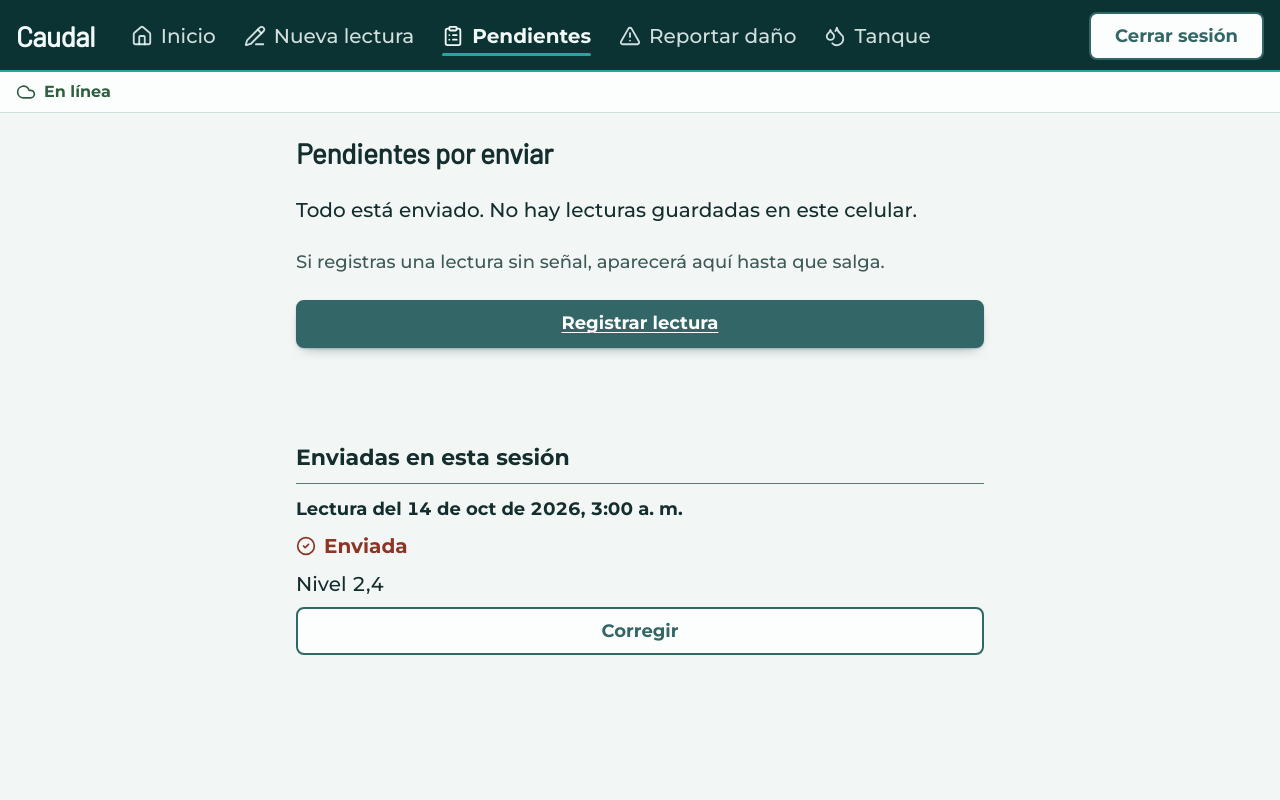
Test: SentReadingRow: correcting a reading the server has › stores the correction with its reason and says the original stays
This screenshot has width=1280, height=800.
Click the button "Corregir" at (640, 631), box [296,607,984,655]
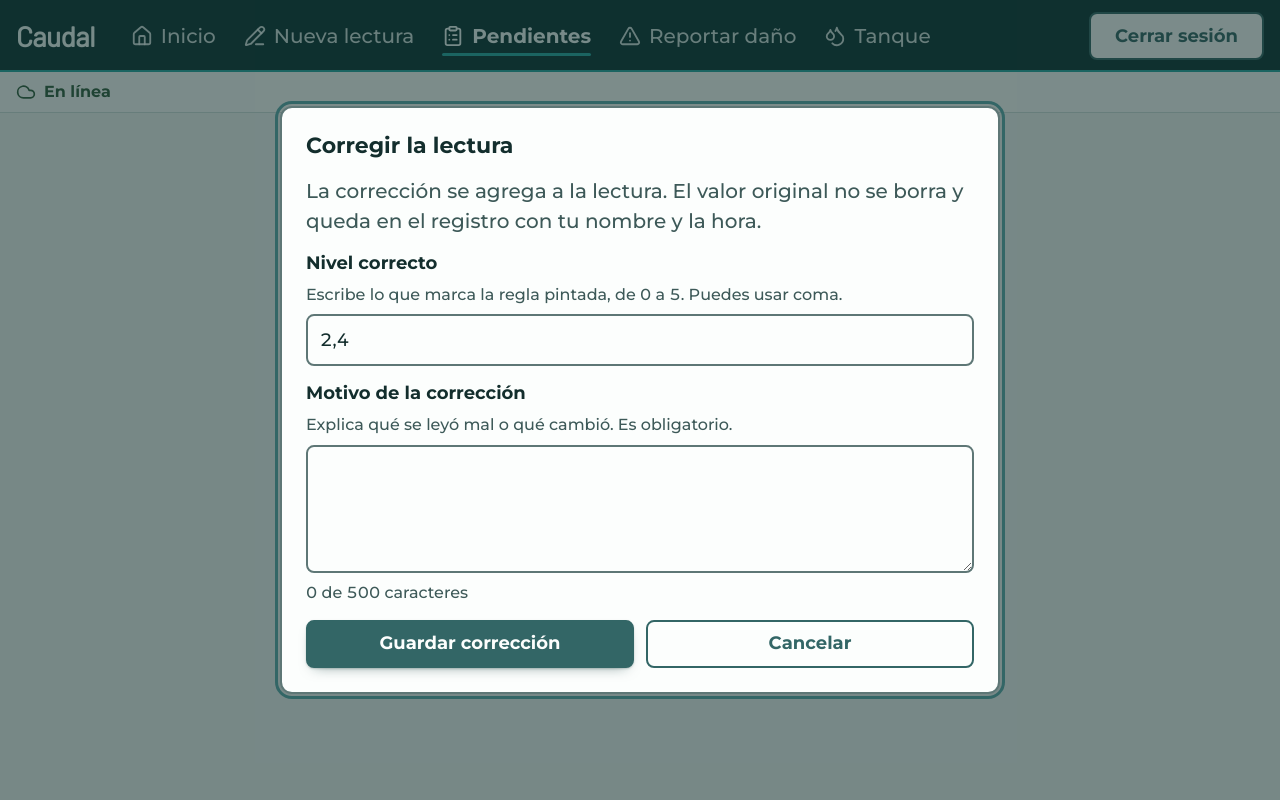
Expected: the text "La corrección se agrega a la lectura. El valor original no se borra y queda en el registro con tu nombre y la hora." is shown, [306,179,964,233]
Replace the text in the field labelled "Nivel correcto" with "2" at (640, 340), box [306,314,974,366]
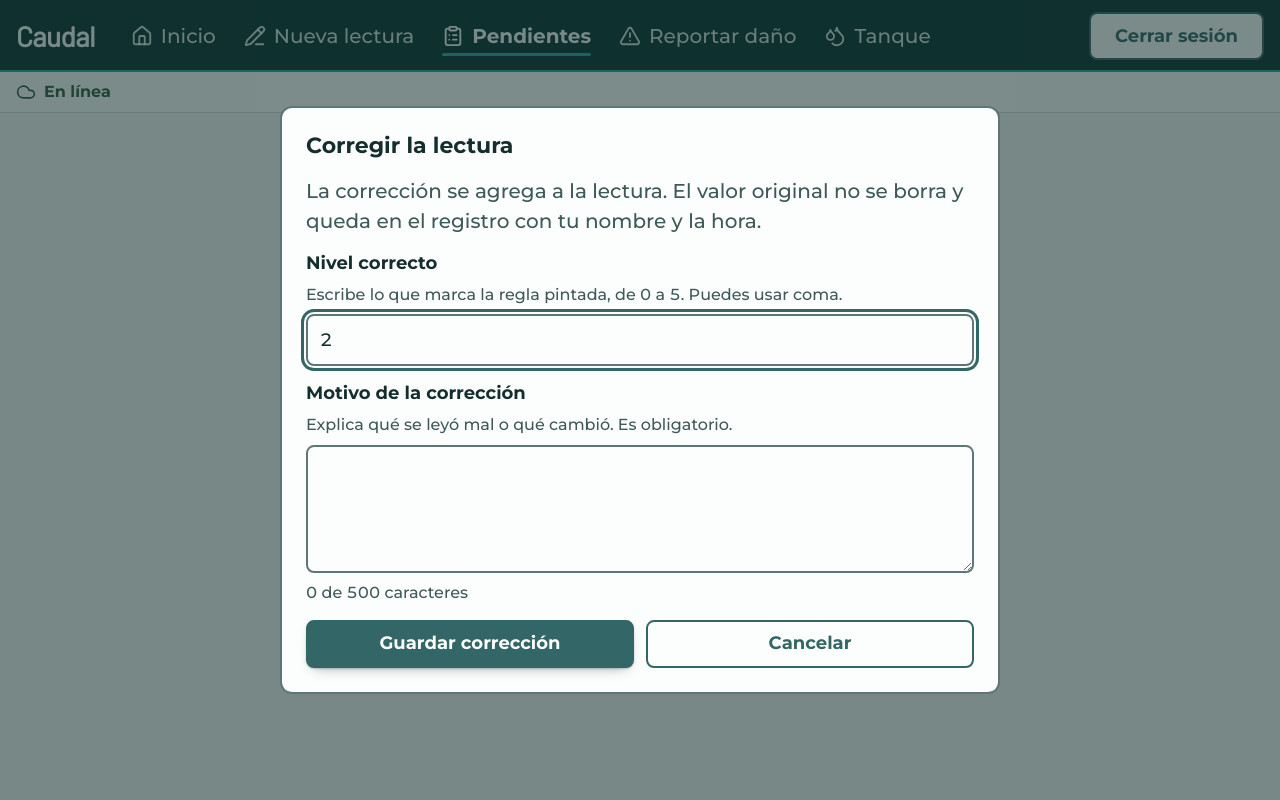
Type "Se leyó 2,0 y no 2,4 como quedó anotado." into the text box labelled "Motivo de la corrección" at (640, 509), box [306,445,974,573]
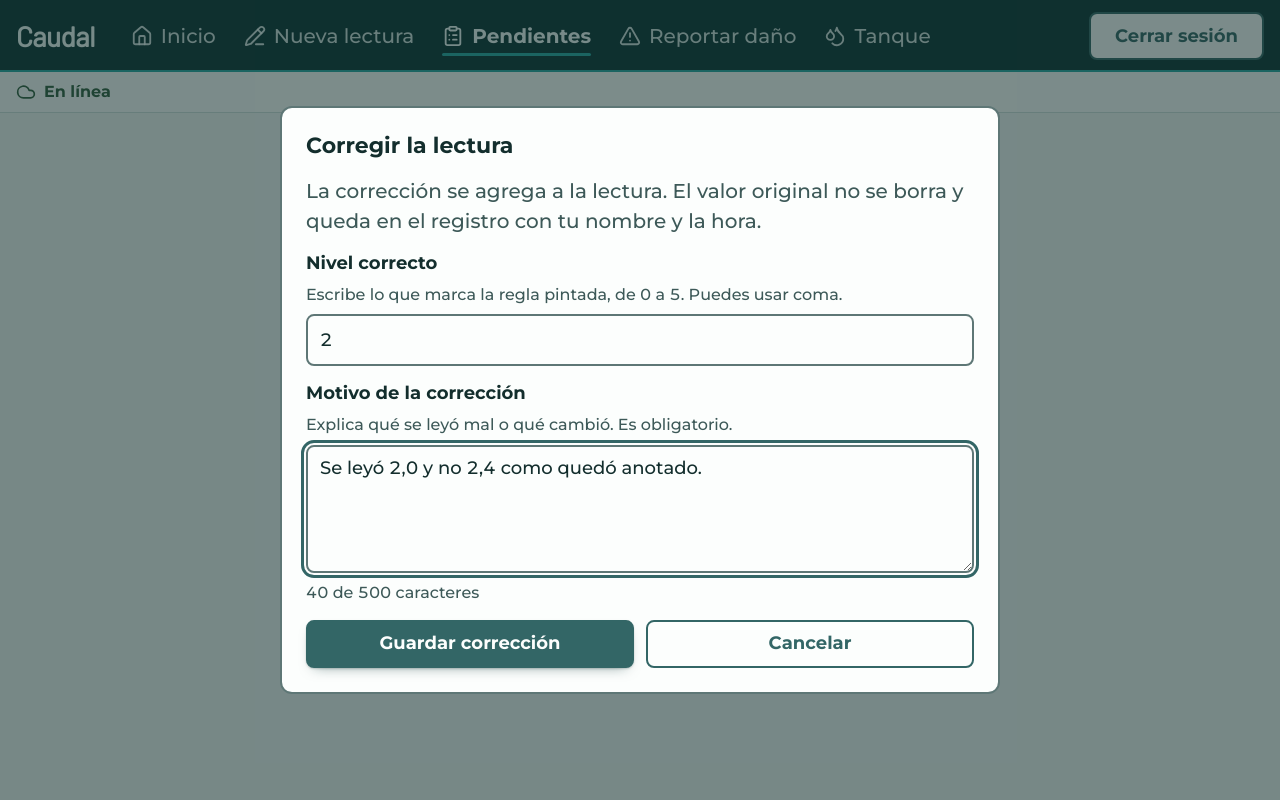
Click the button "Guardar corrección" at (470, 644), box [306,620,634,668]
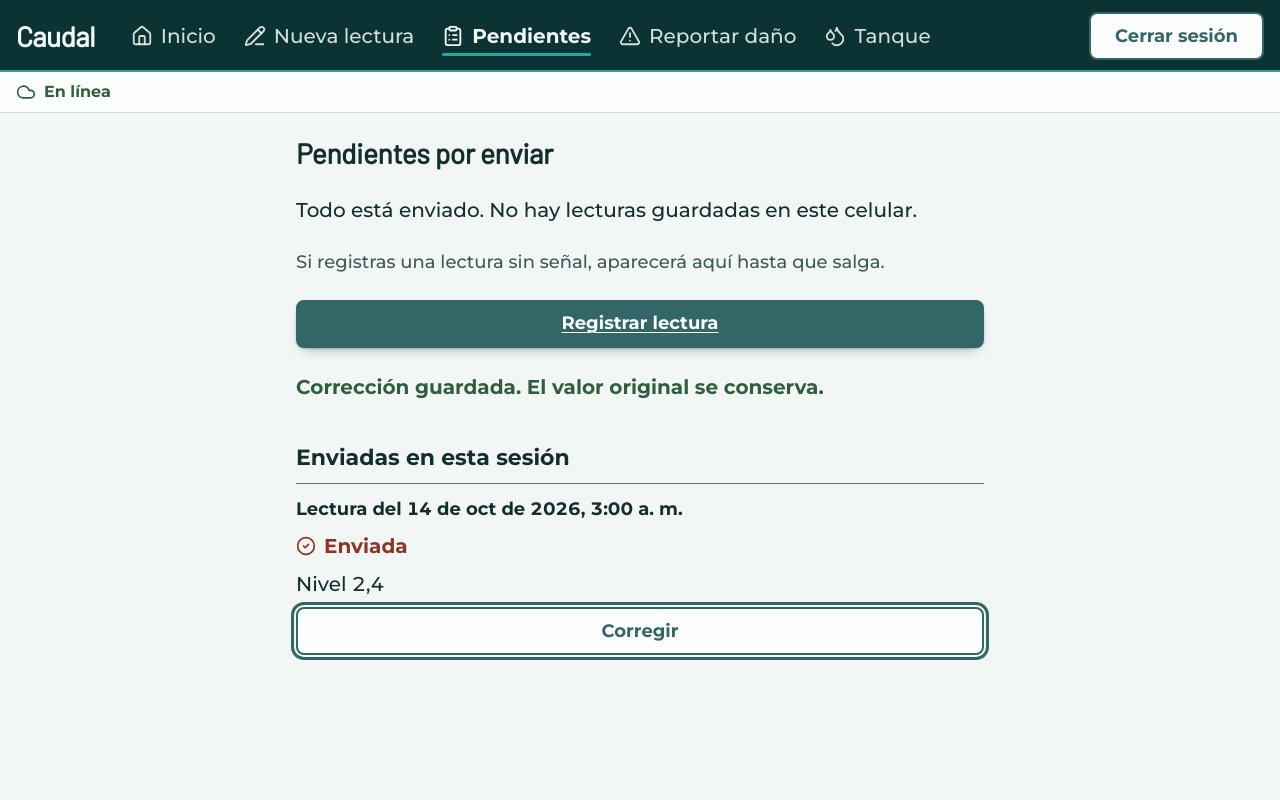
Expected: the message reads "Corrección guardada. El valor original se conserva.", [296,375,824,399]
